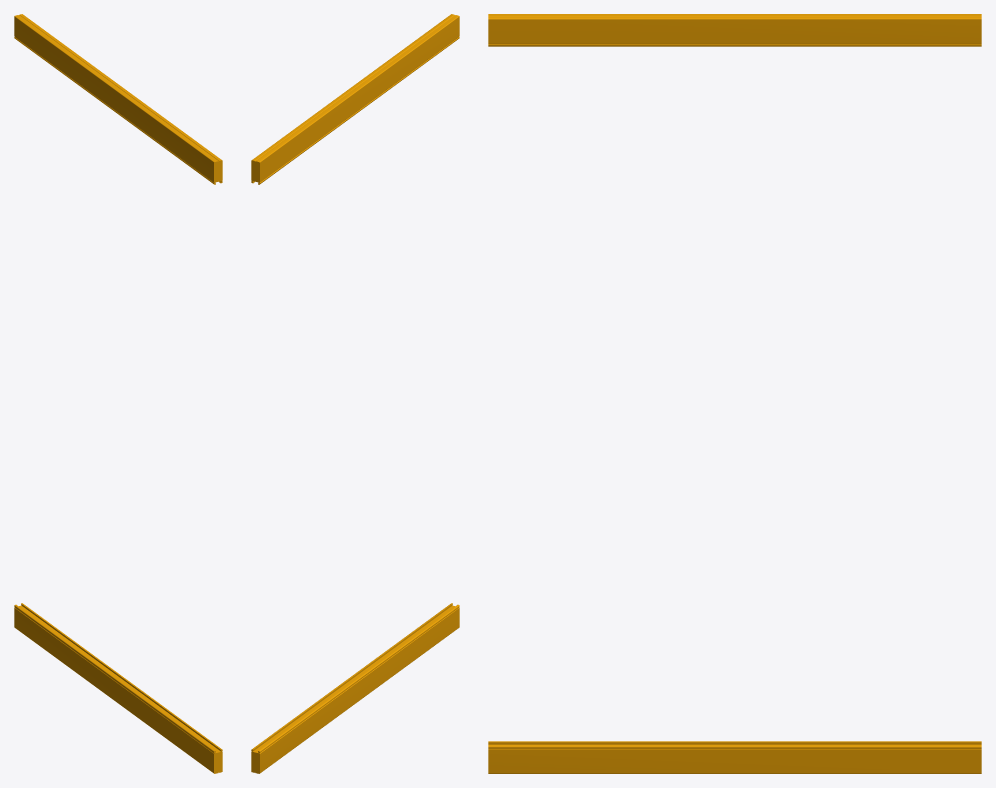
File: cell_light_curtain_yellow.obj
3 renders of one model, left to right at view 1: azimuth 30°, elevation 25°; view 2: azimuth 150°, elevation 25°; view 3: azimuth 270°, elevation 25°, orthographic. The views are drawn at different scales.
Parts seen in each view (by area): view 1: cell_light_curtain_yellow; view 2: cell_light_curtain_yellow; view 3: cell_light_curtain_yellow.
Boxes of the visible parts, left/top/right/bottom form: cell_light_curtain_yellow: left=14, top=14, right=222, bottom=773; cell_light_curtain_yellow: left=251, top=14, right=459, bottom=773; cell_light_curtain_yellow: left=488, top=14, right=981, bottom=773.
Size of the model in its own units: 0.0155 by 1.05 by 0.62.
